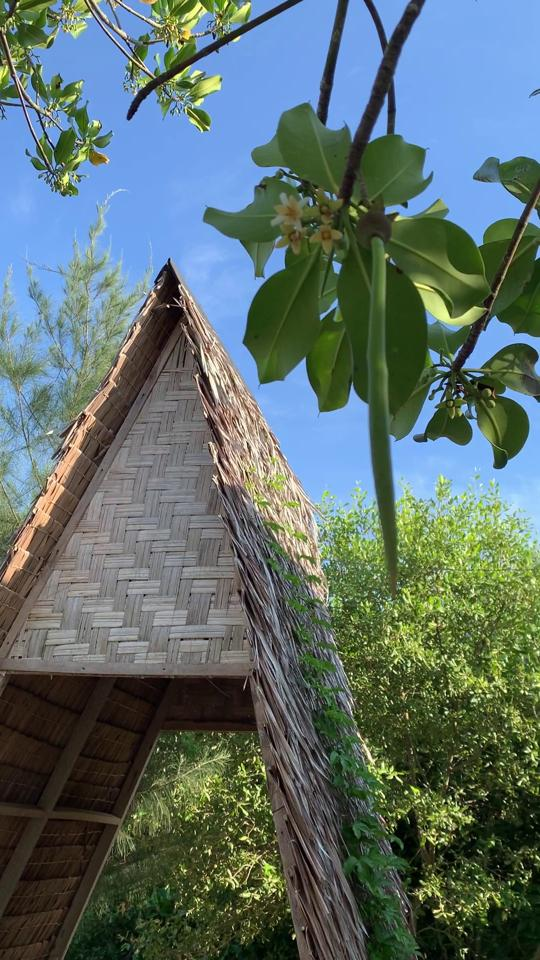mentah: (348, 192, 417, 611)
